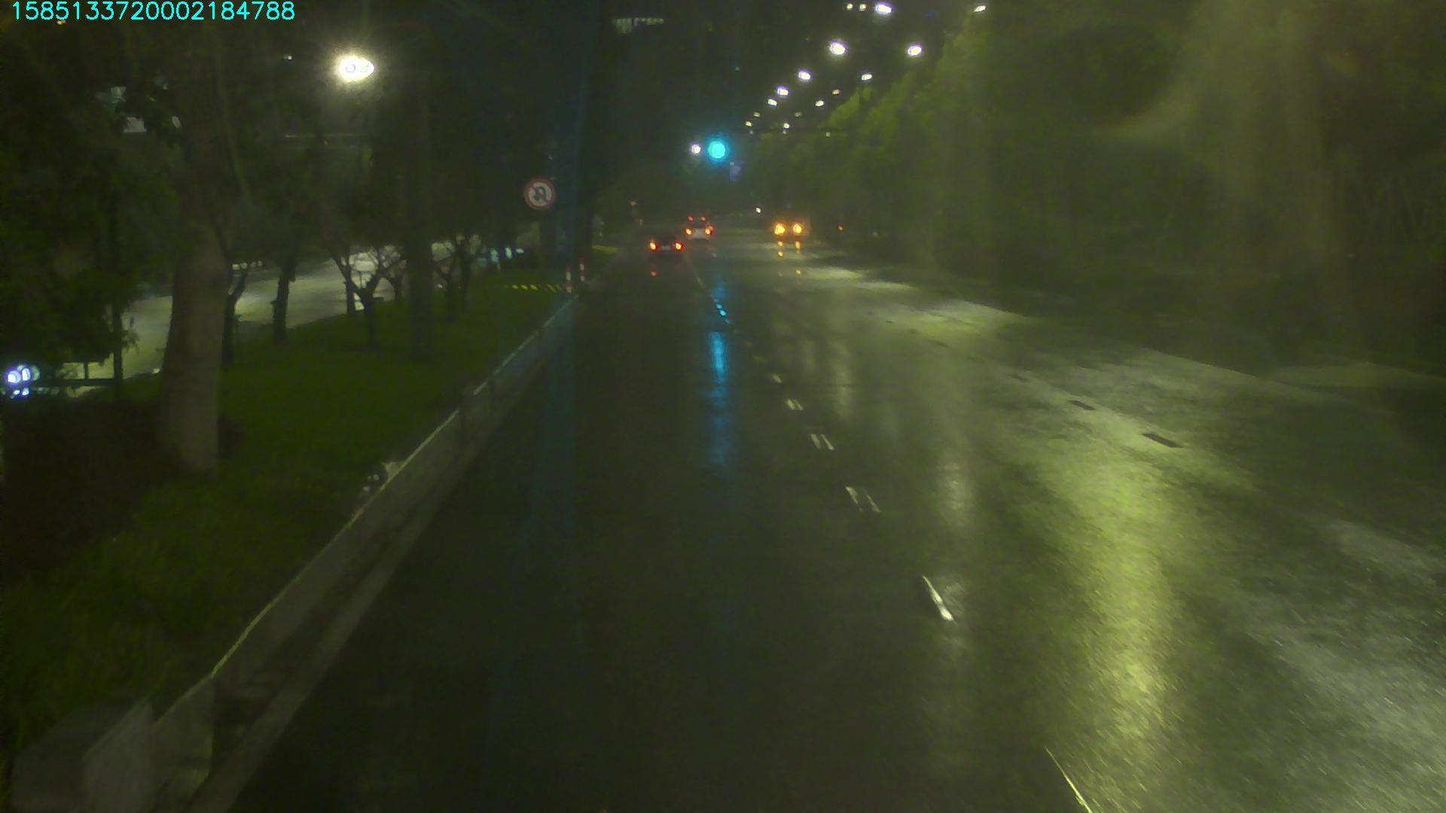green: (697, 134, 735, 173)
